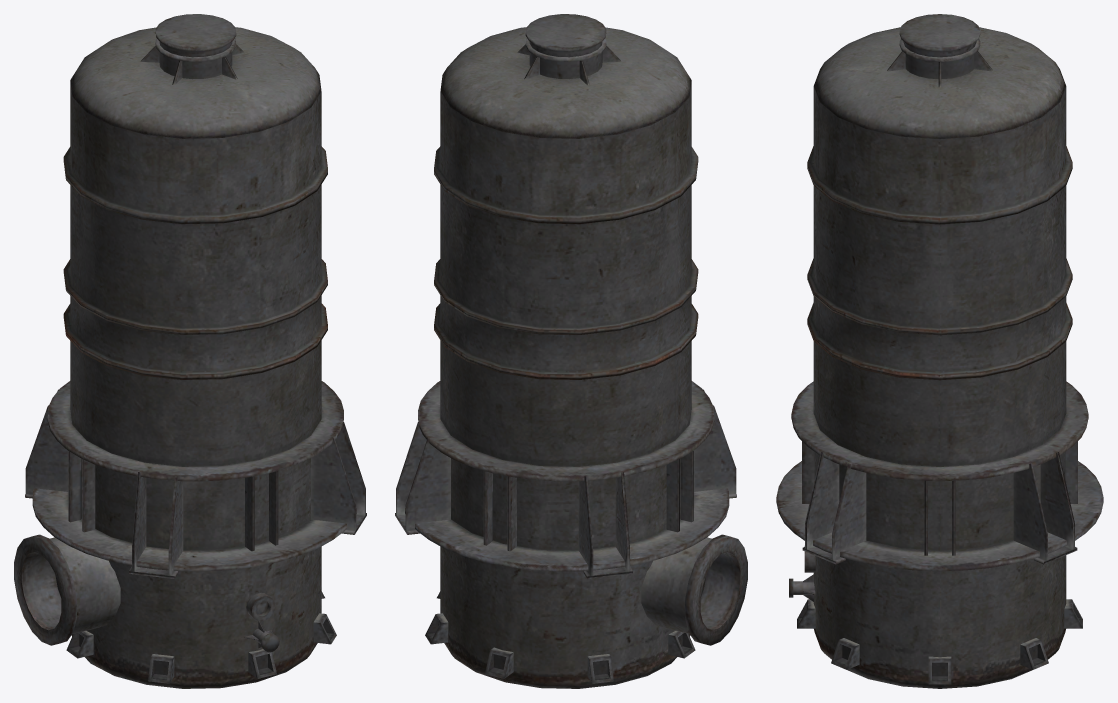
File: sm22_007_talltank01a.fbx
3 renders of one model, left to right at view 1: azimuth 30°, elevation 25°; view 2: azimuth 150°, elevation 25°; view 3: azimuth 270°, elevation 25°, orthographic.
Visible parts, largest first — view 1: LOD_1_Group_0_Sub_1__sm22_007_TallTank01A_A_Mat; view 2: LOD_1_Group_0_Sub_1__sm22_007_TallTank01A_A_Mat; view 3: LOD_1_Group_0_Sub_1__sm22_007_TallTank01A_A_Mat.
Part boxes in pixels (x1,y1,x2,y2): LOD_1_Group_0_Sub_1__sm22_007_TallTank01A_A_Mat: (14, 14, 366, 688); LOD_1_Group_0_Sub_1__sm22_007_TallTank01A_A_Mat: (395, 14, 747, 688); LOD_1_Group_0_Sub_1__sm22_007_TallTank01A_A_Mat: (776, 14, 1103, 688).
Size of the model in its own units: 1.89 by 3.73 by 1.81.
